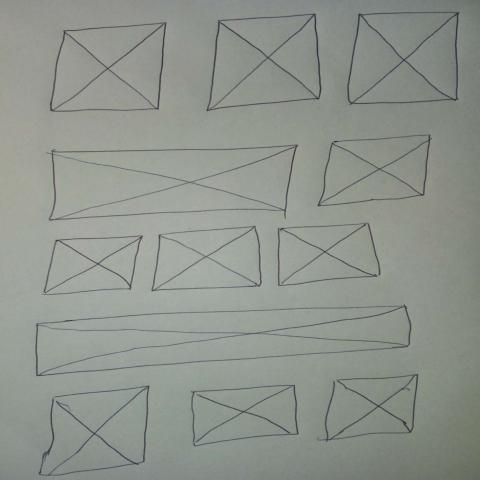Image: (36, 305, 413, 378), (47, 145, 300, 223), (205, 11, 325, 114), (345, 8, 465, 106), (48, 23, 172, 114), (39, 385, 152, 477), (316, 134, 434, 208), (151, 226, 265, 293), (277, 222, 383, 288), (191, 385, 300, 448), (321, 374, 420, 443), (41, 235, 145, 297)
